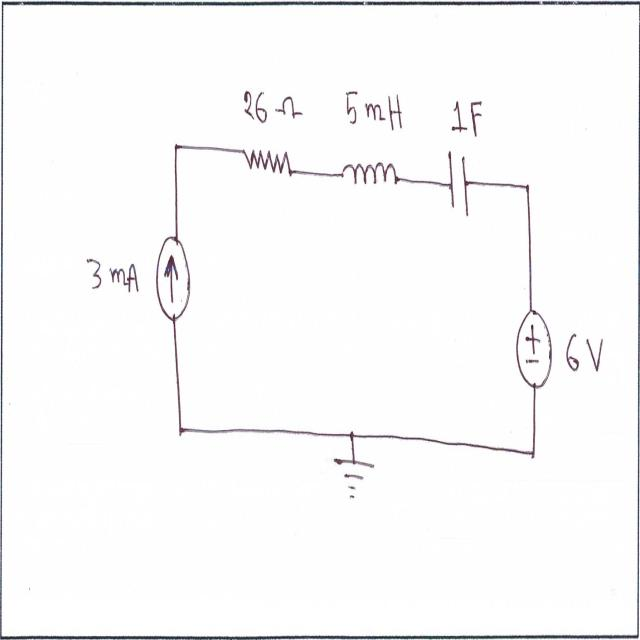capacitor: (440, 142, 476, 228)
current_source: (152, 216, 194, 331)
ground: (332, 449, 382, 514)
inductor: (339, 149, 402, 202)
resistor: (236, 138, 306, 192)
voltage_source: (516, 310, 556, 407)
